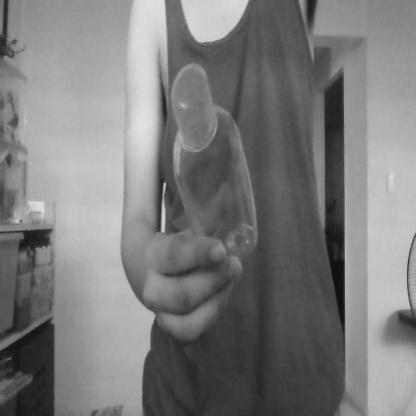Plastic Bottle: (164, 63, 259, 269)
